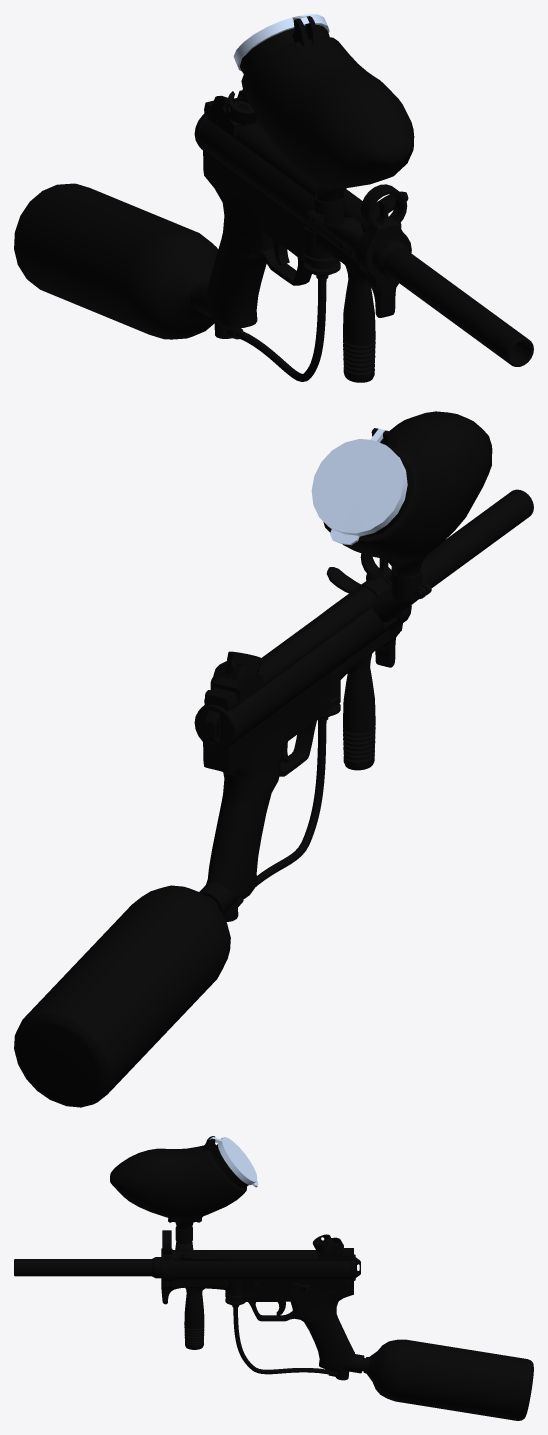
The model's file is PaintballMarker.fbx.
3 renders of one model, top to bottom at view 1: azimuth 30°, elevation 25°; view 2: azimuth 150°, elevation 25°; view 3: azimuth 270°, elevation 25°, orthographic. The views are drawn at different scales.
Visible parts, largest first — view 1: HopperBracket2; view 2: HopperBracket2; view 3: HopperBracket2.
Part boxes in pixels (x1,y1,x2,y2): HopperBracket2: (14,14,533,382); HopperBracket2: (14,411,533,1107); HopperBracket2: (14,1136,533,1420).
Size of the model in its own units: 7.34 by 25.26 by 44.09.
